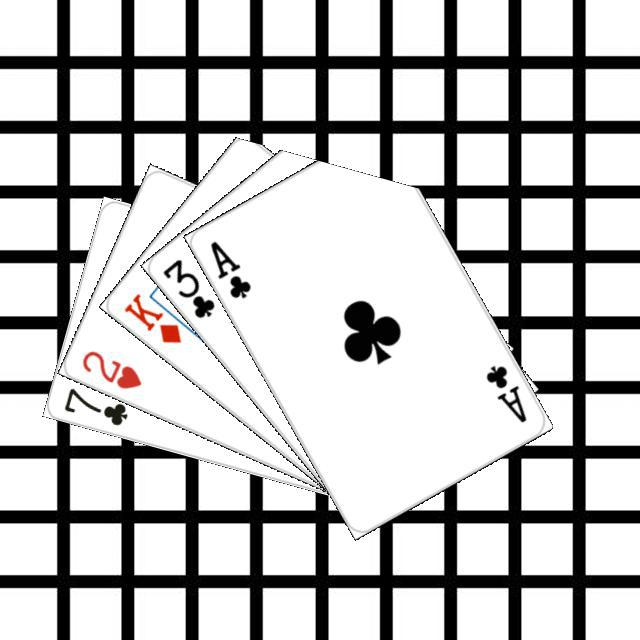2h: (77, 345, 143, 391)
3c: (157, 254, 217, 320)
7c: (59, 383, 130, 428)
Ac: (480, 360, 529, 425), (205, 235, 253, 300)
Kd: (119, 288, 183, 345)
